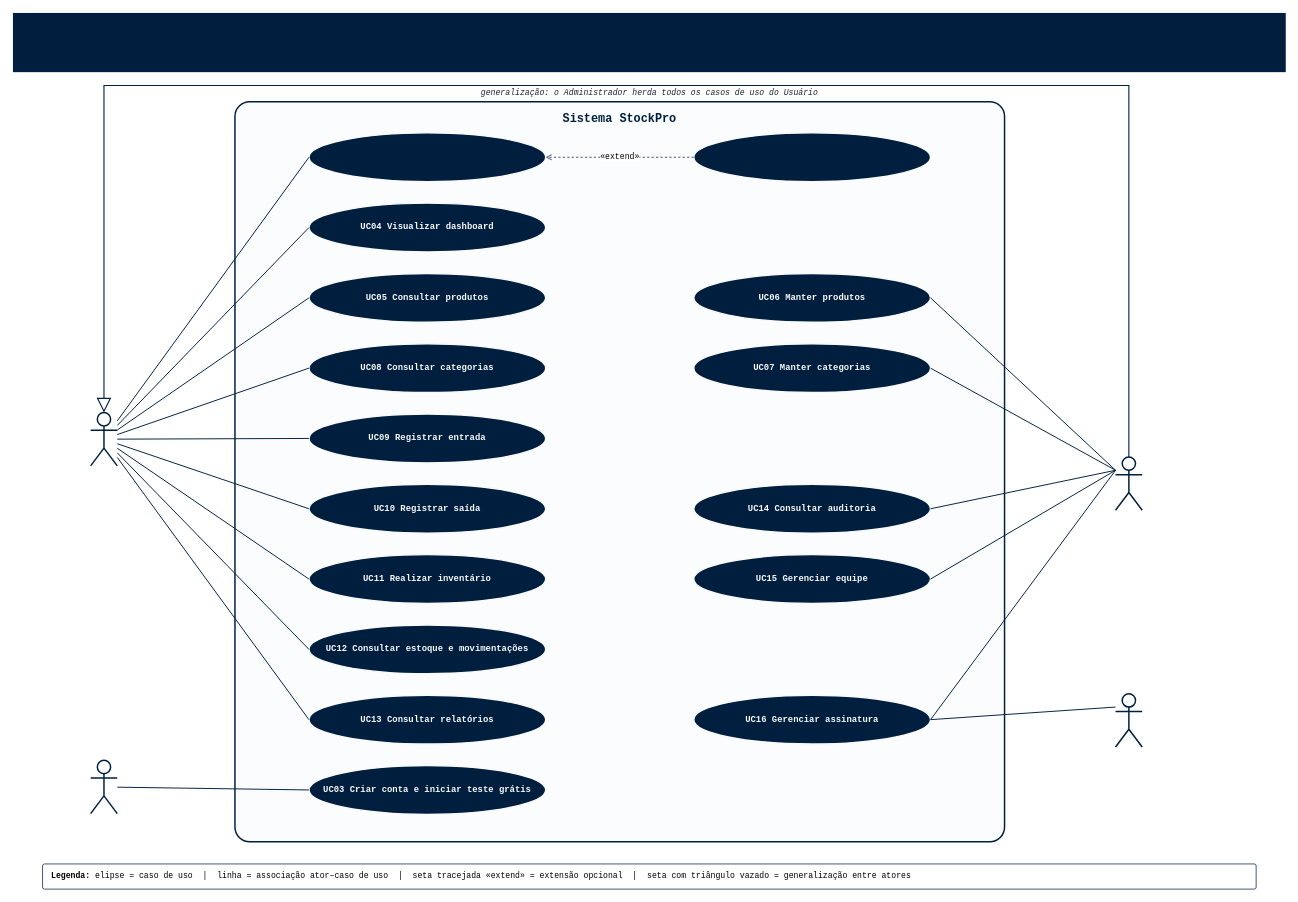
Image size: 1298x902. Some labels were removed from this diagram. Here are the shapes that lost their labels. From the top down, the centre of each, then its label:
the point at 649,42: Diagrama de Casos de Uso - StockPro (UML)
the point at 427,157: UC01 Autenticar-se
the point at 812,157: UC02 Recuperar senha
the point at 104,438: Usuário (estoquista)
the point at 1128,483: Administrador (assinante)
the point at 1128,720: Mercado Pago «sistema externo»
the point at 104,786: Visitante
